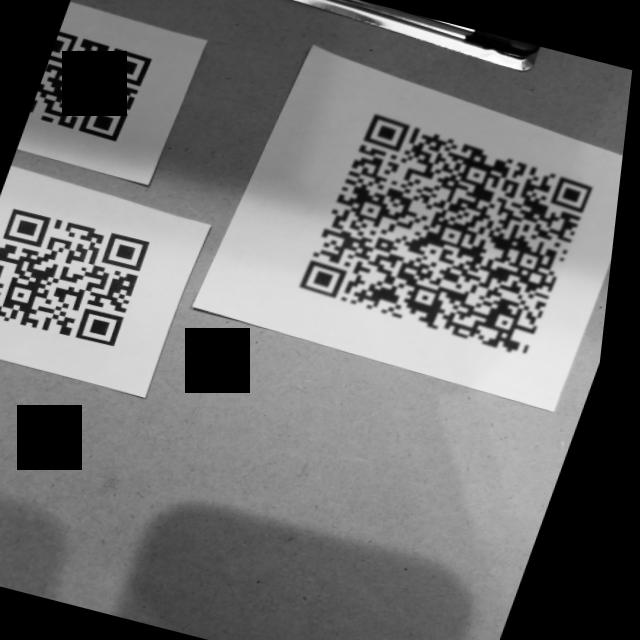QR_CODE: (283, 103, 620, 373), (0, 191, 173, 365), (26, 18, 169, 150)
